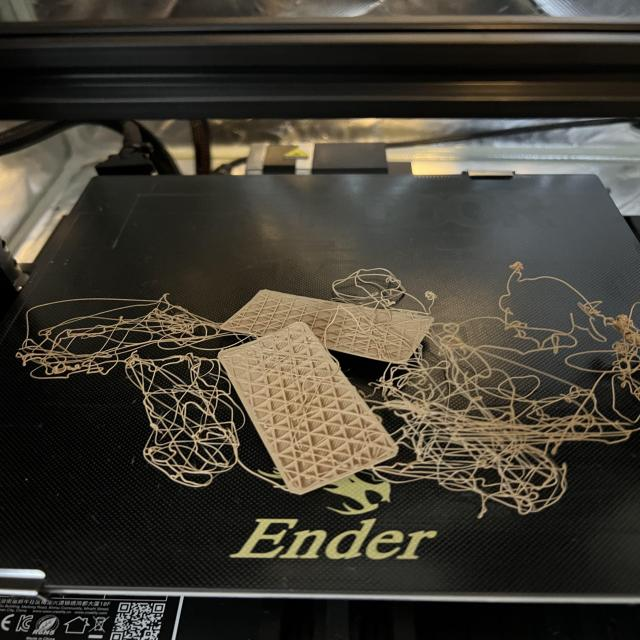Spaghetti: (17, 262, 640, 522)
